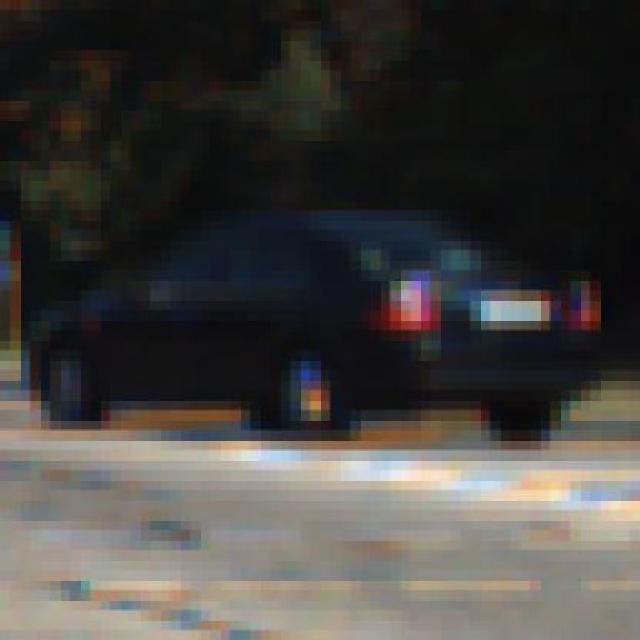vehicle: (20, 195, 602, 462)
